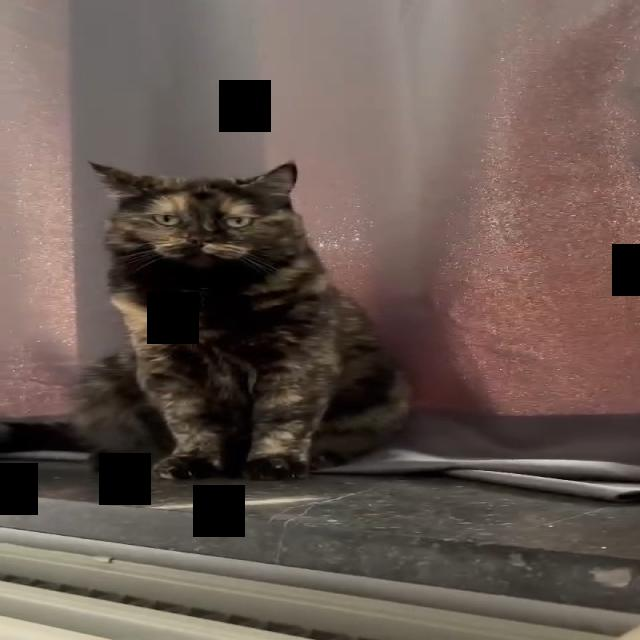authorized: (70, 158, 413, 481)
